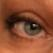eye: (24, 22, 41, 35)
